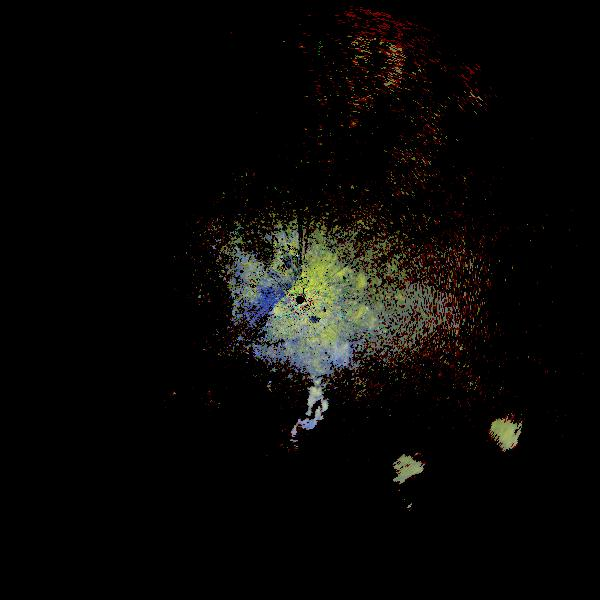roost: (376, 405, 520, 549), (233, 331, 353, 451)
